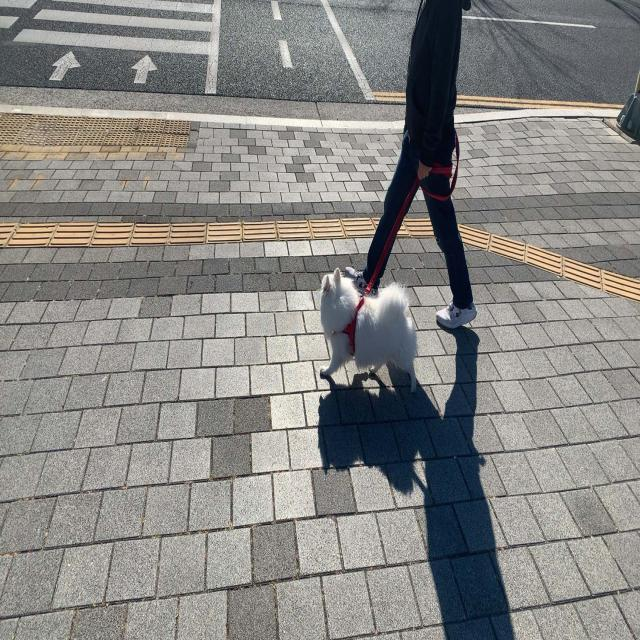Leashed_Dog: (319, 151, 433, 394)
